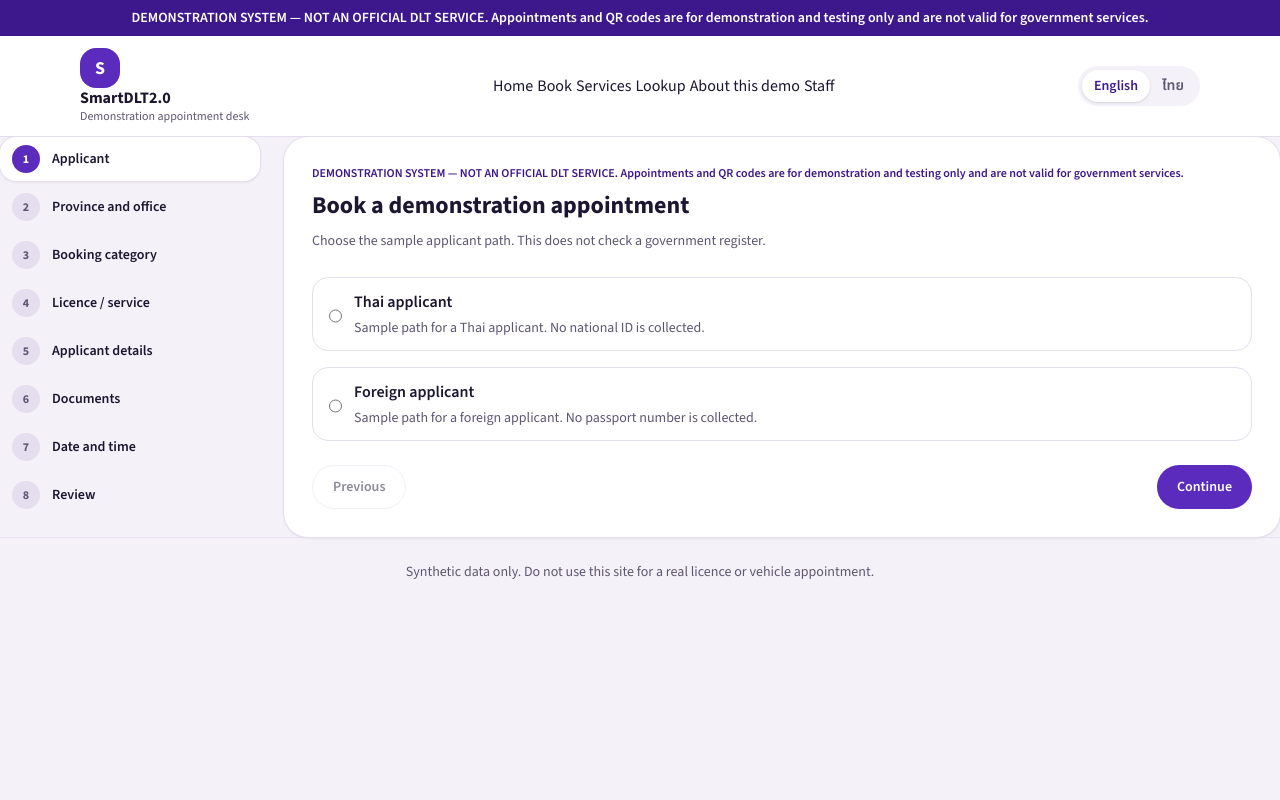
Test case: wizard navigation › walks applicant, office, and category on a compact vertical stepper
Expected: the text with test id "wizard-disclaimer" shows "DEMONSTRATION SYSTEM — NOT AN OFFICIAL DLT SERVICE. Appointments and QR codes are for demonstration and testing only and are not valid for government services.", [312,165,1184,181]
Click the radio button labelled "Thai applicant": (336, 316) [329,294,342,338]
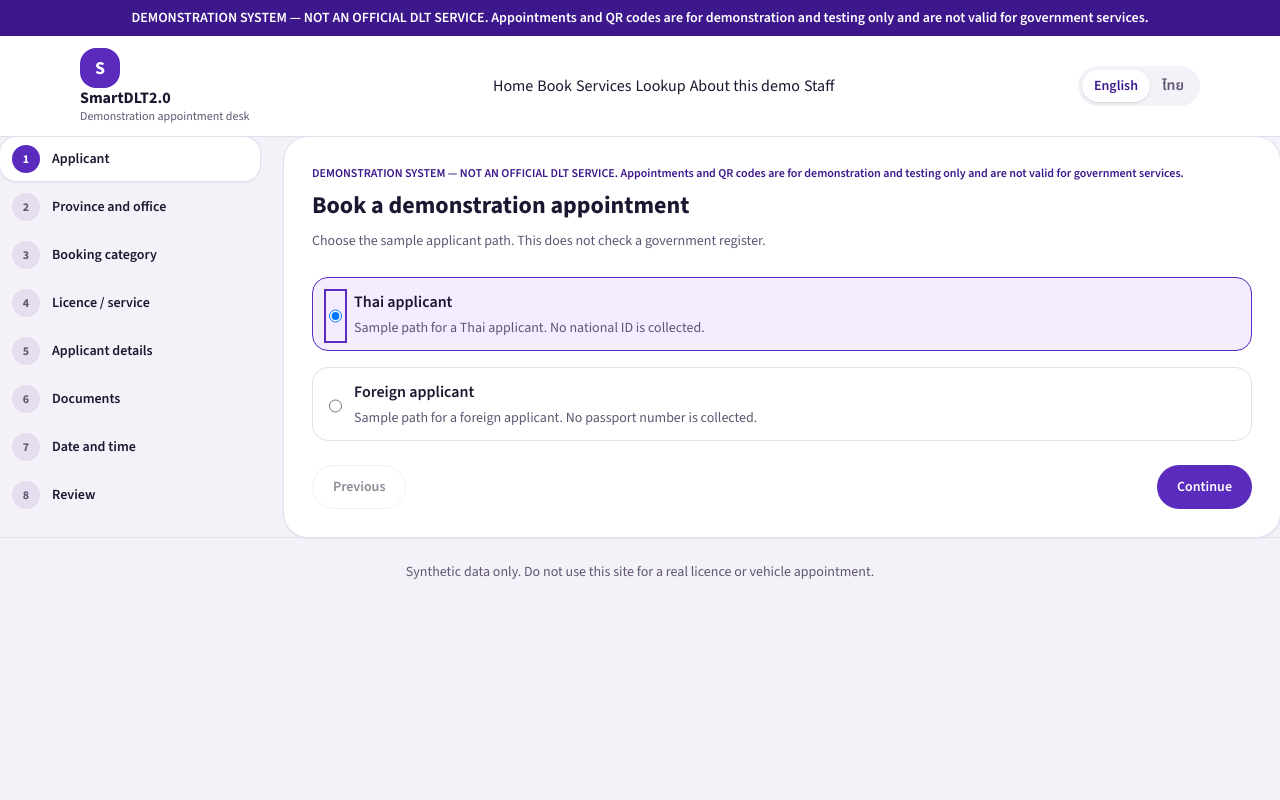
Click the button "Continue": (1204, 487) [1157,465,1252,509]
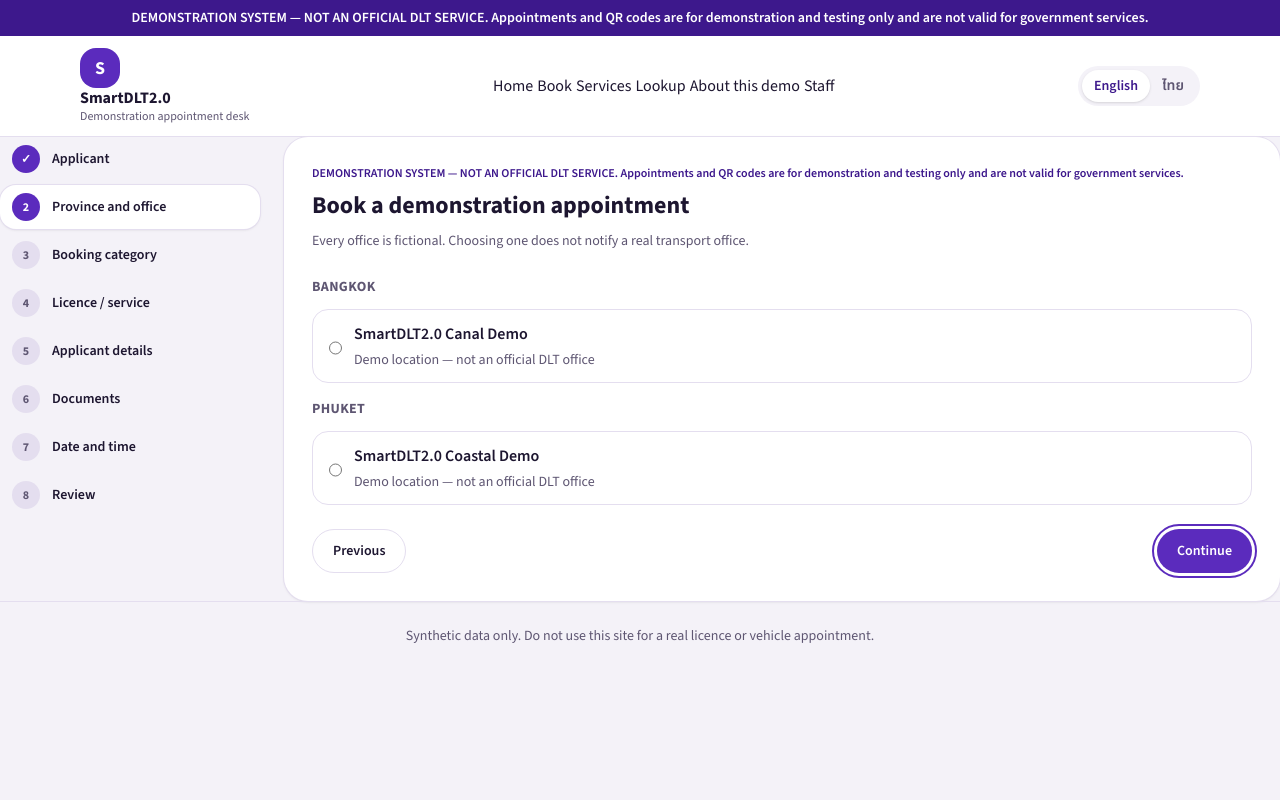
Expected: the heading "Bangkok" is shown, [312,277,376,296]
Click the radio button labelled "Canal Demo": (336, 348) [329,326,342,370]
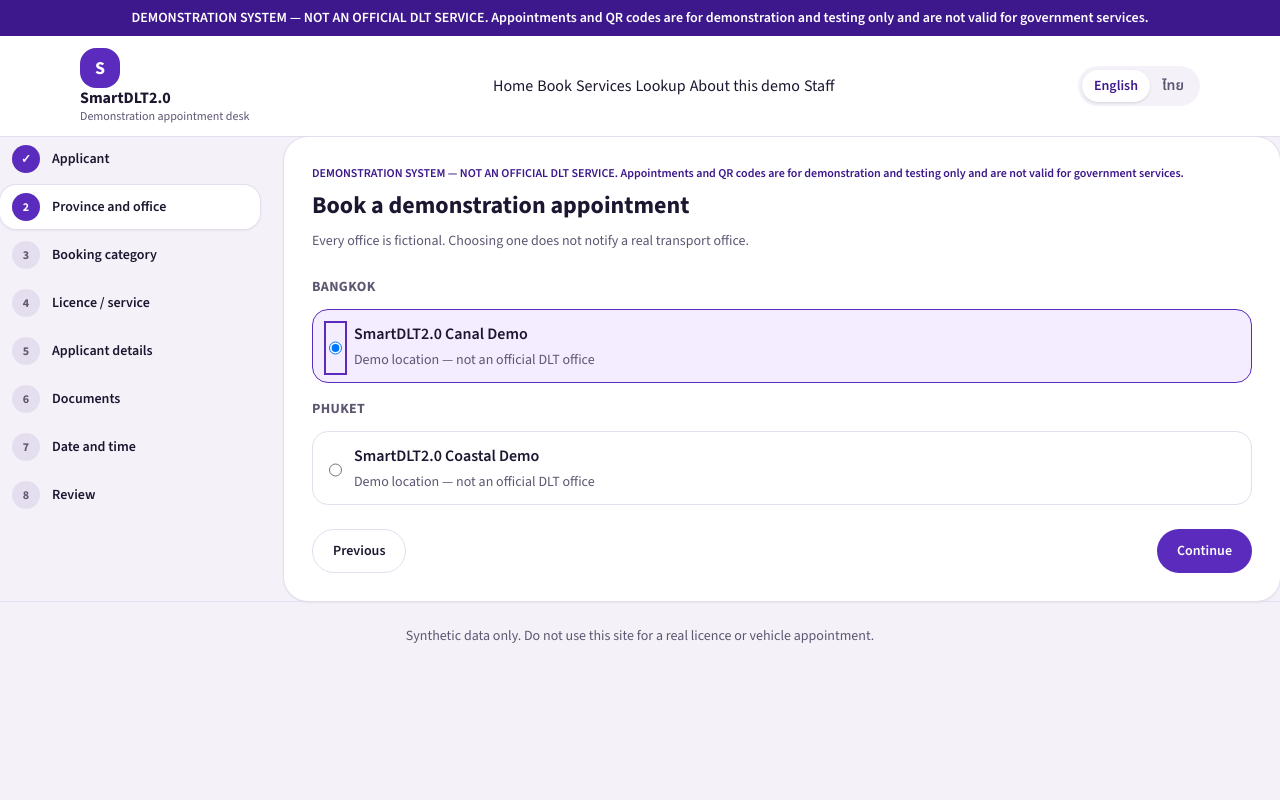
Click the button "Continue": (1204, 551) [1157,529,1252,573]
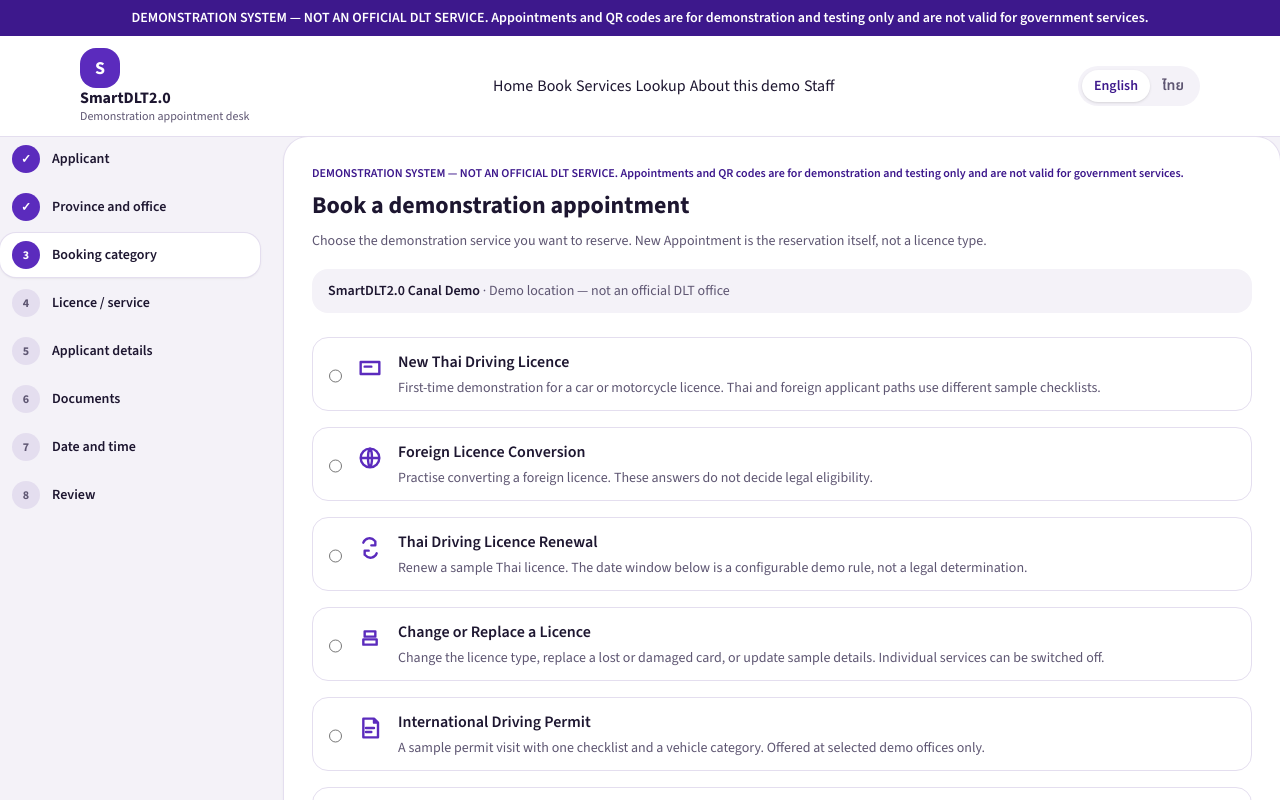
Expected: the radio button labelled "New Thai Driving Licence" is shown, [329,354,342,398]
Expected: the radio button labelled "International Driving Permit" is shown, [329,714,342,758]
Click the button named "✓Applicant": (81, 158) [0,137,260,181]
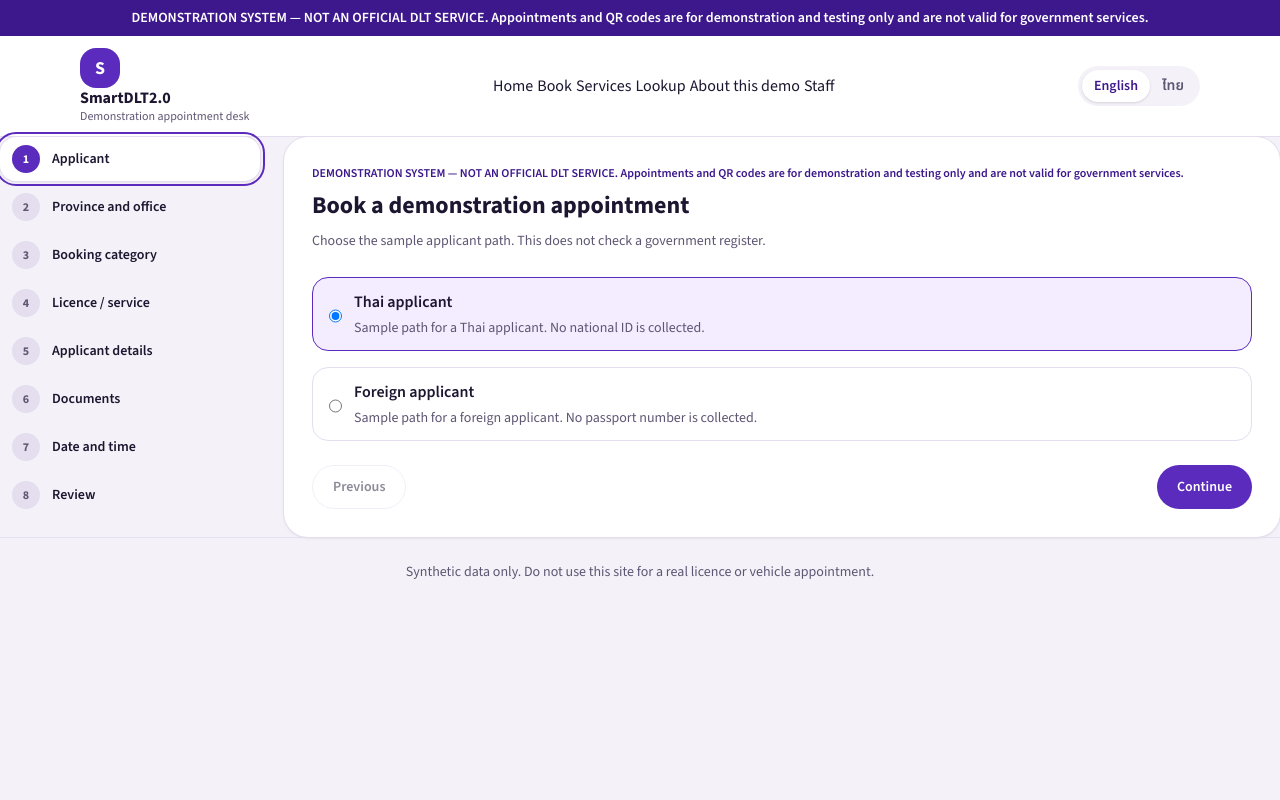
Expected: the radio button labelled "Thai applicant" is checked, [329,294,342,338]
